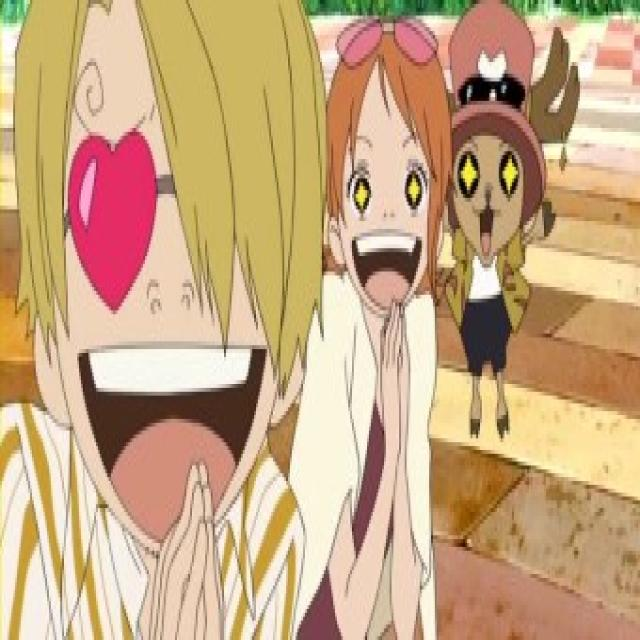Chyopa: (442, 0, 565, 444)
Nami: (319, 0, 451, 309)
Sangdi: (13, 0, 316, 552)
